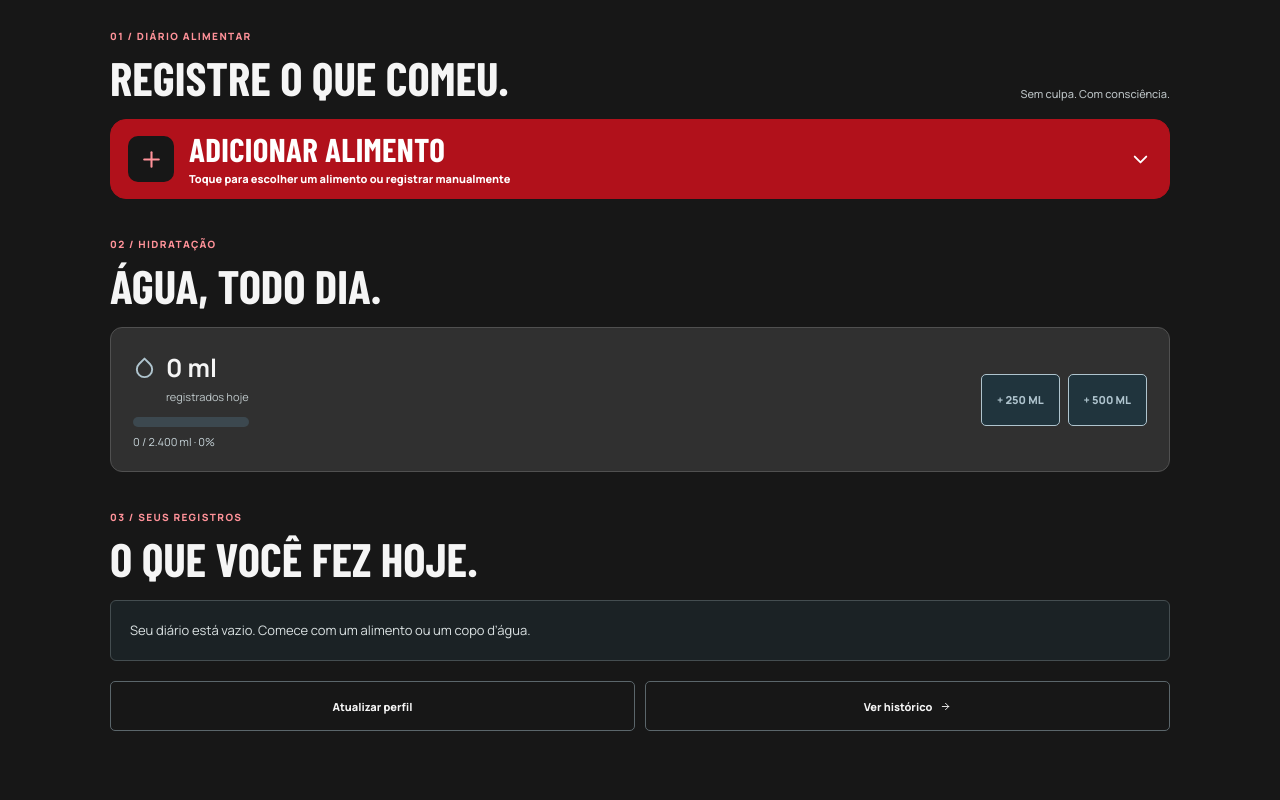
Test: falha ao salvar nao mostra falsa confirmacao de sucesso
(page scrolled)
Click the button "+ 250 ML": x=1020, y=400 x1=981 y1=374 x2=1060 y2=426
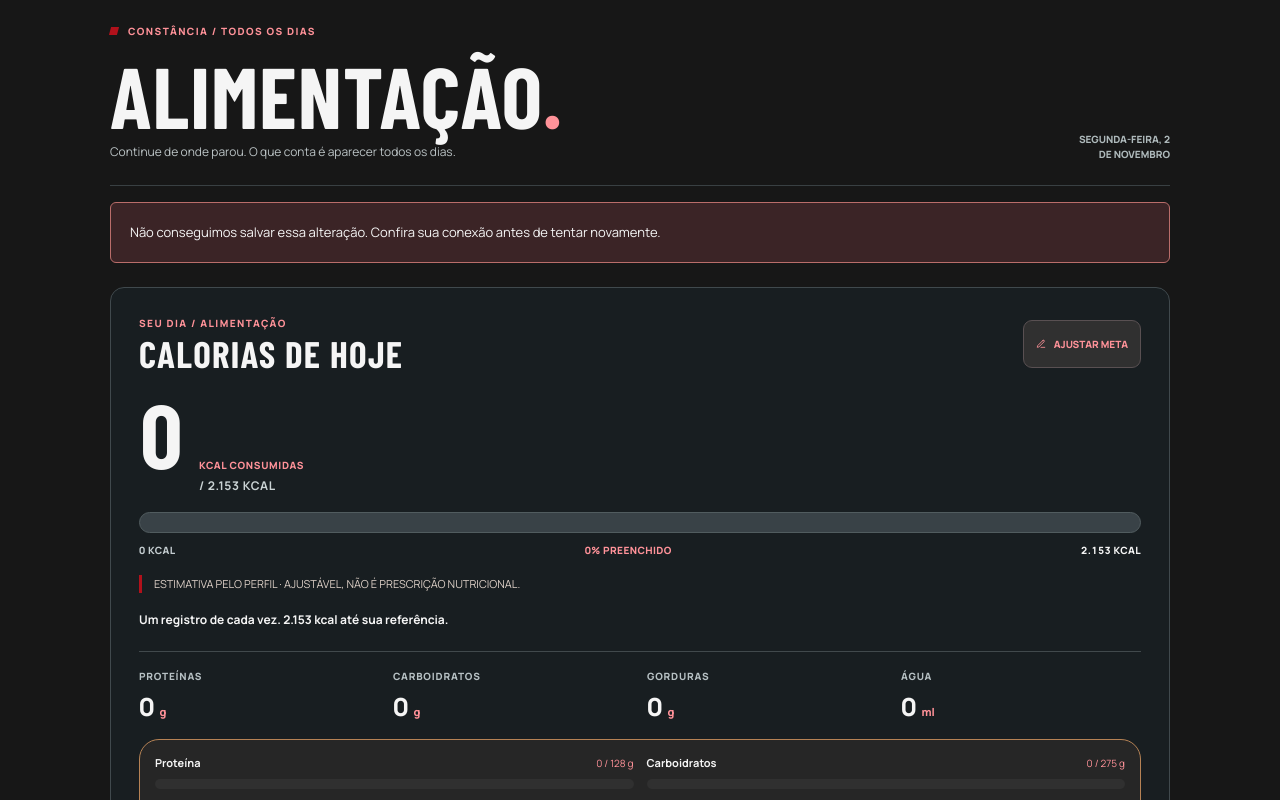
Now the message shows "Não conseguimos salvar", box x1=130 y1=223 x2=661 y2=241
